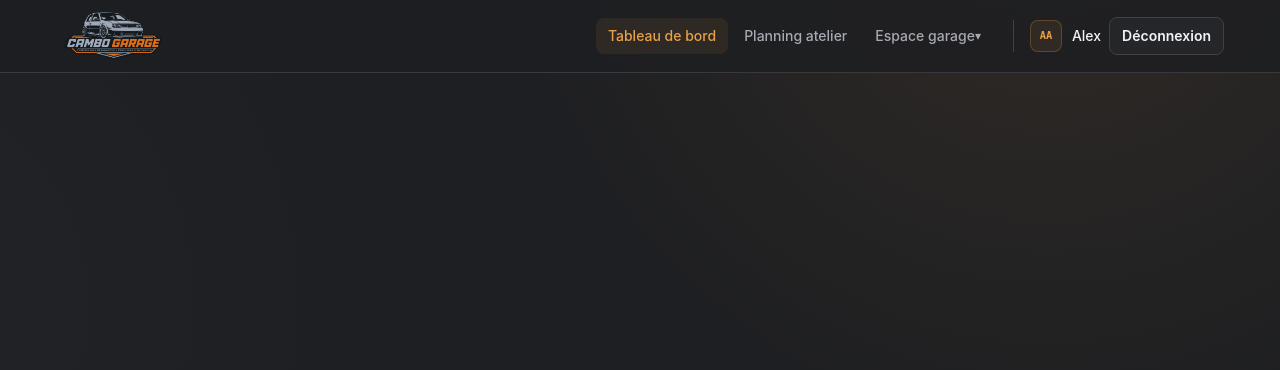
Test: SiteHeader › ferme le menu après navigation
This screenshot has width=1280, height=370.
Step 1. Click the button "Espace garage ▾" → (928, 36), box x1=863 y1=18 x2=993 y2=54
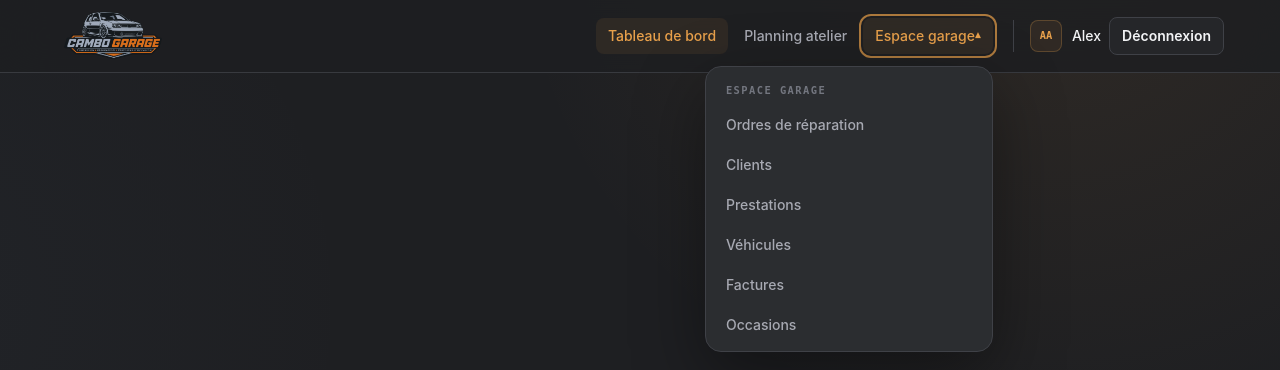
Step 2. Click the link "Ordres de réparation" → (795, 124), box x1=726 y1=116 x2=864 y2=133
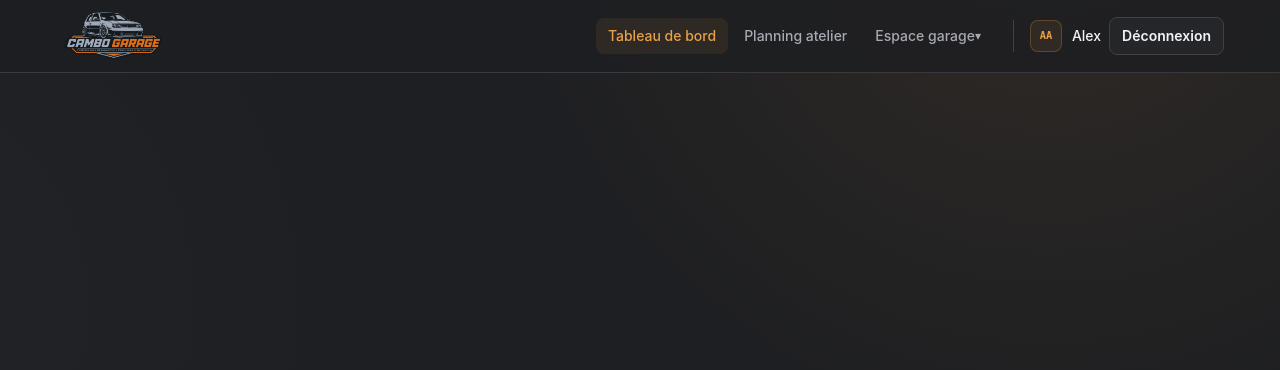
Expected: the button "Espace garage ▾" is collapsed, x1=863 y1=18 x2=993 y2=54
Expected: the link "Ordres de réparation" is gone
